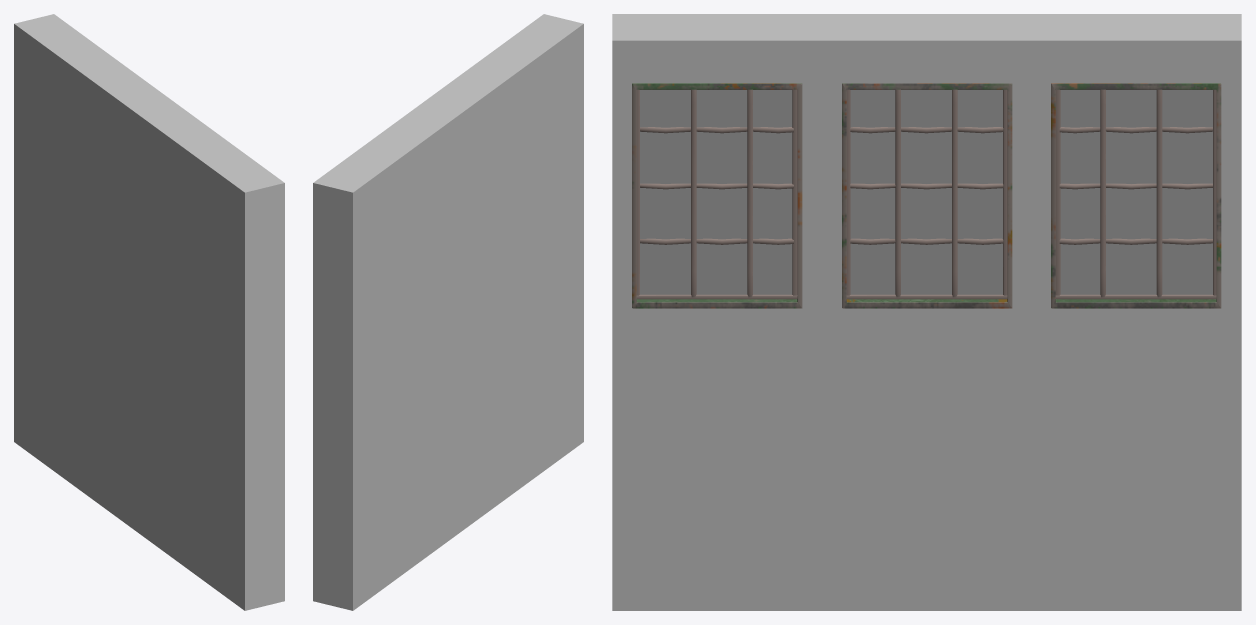
Rendered from SM_SlumWallWindows_01.fbx.
3 views of the same model, side by side, from view 1: azimuth 30°, elevation 25°; view 2: azimuth 150°, elevation 25°; view 3: azimuth 270°, elevation 25° (orthographic). The views are drawn at different scales.
Parts seen in each view (by area): view 1: FloorSmall18; view 2: FloorSmall18; view 3: FloorSmall18.
Part boxes in pixels (x1,y1,x2,y2): FloorSmall18: (14,14,284,610); FloorSmall18: (313,14,583,610); FloorSmall18: (612,14,1241,610).
Size of the model in its own units: 51.01 by 500 by 500.
